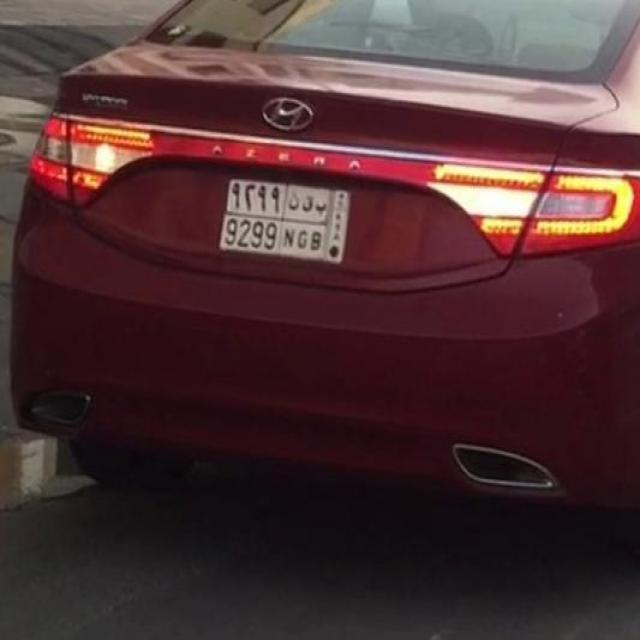Car-plate: (208, 170, 366, 276)
